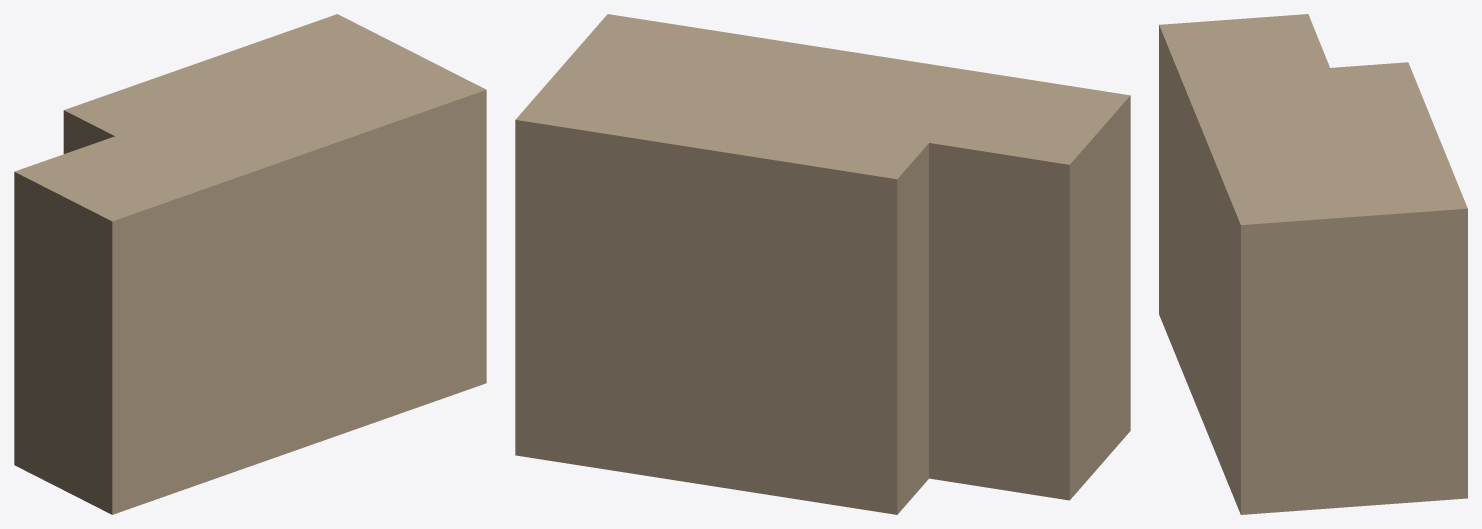
Rendered from bld_101562423.dae.
3 renders of one model, left to right at view 1: azimuth 30°, elevation 25°; view 2: azimuth 150°, elevation 25°; view 3: azimuth 270°, elevation 25°, orthographic. The views are drawn at different scales.
Visible parts, largest first — view 1: bld_101562423; view 2: bld_101562423; view 3: bld_101562423.
Boxes of the visible parts, x1,y1,x2,y2 form: bld_101562423: [14, 14, 486, 514]; bld_101562423: [515, 14, 1130, 514]; bld_101562423: [1159, 14, 1467, 514].
Bounding box in the file's own units: 12.5 × 7.72 × 8.
